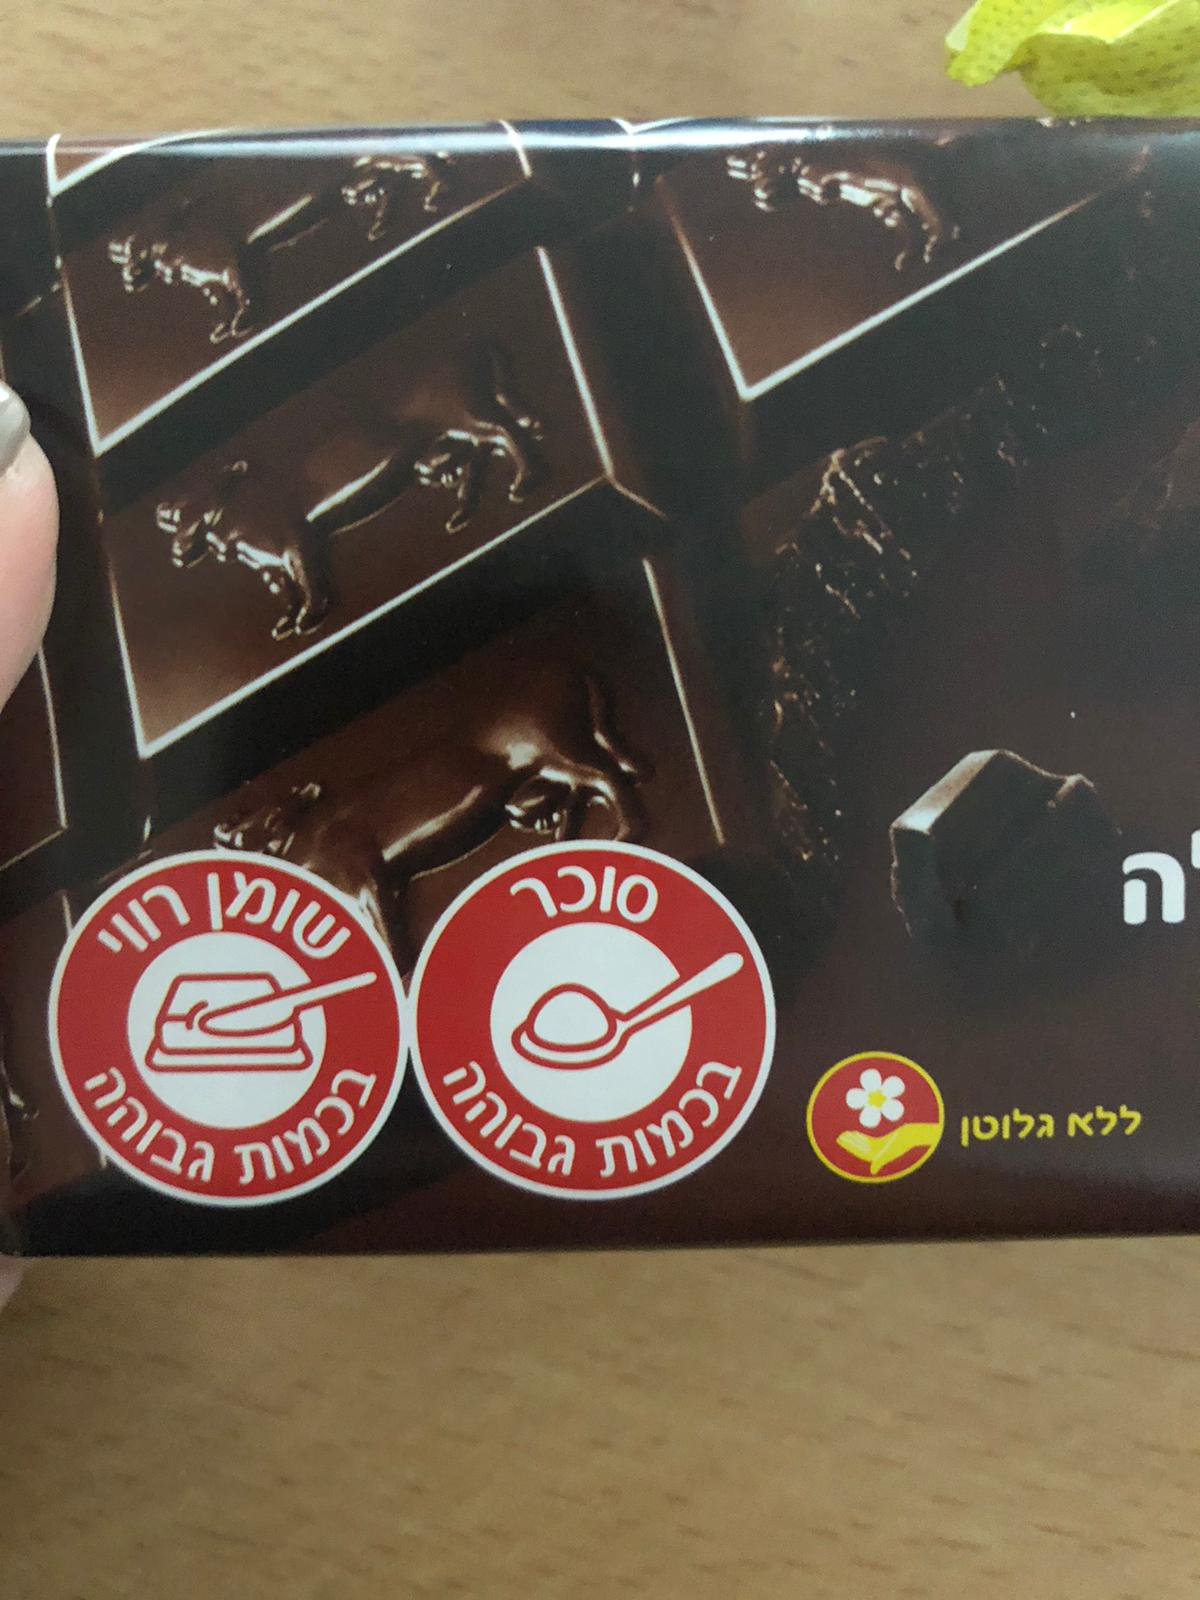fat: (45, 848, 411, 1209)
sugar: (406, 838, 782, 1206)
